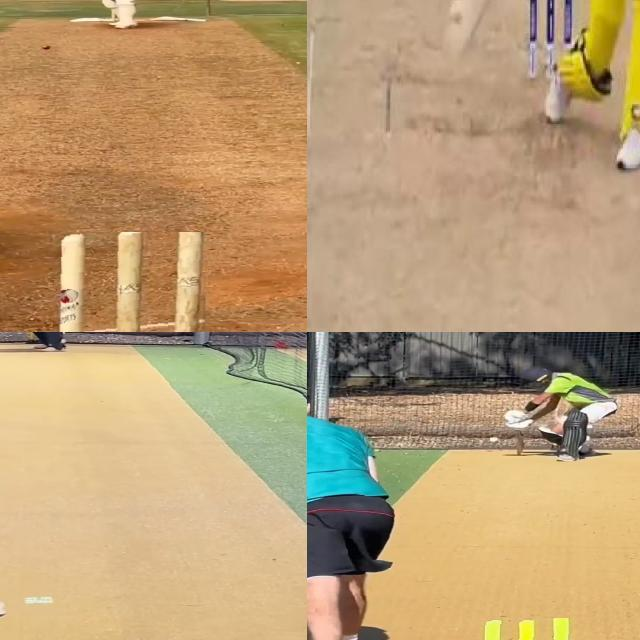Cricket ball: (54, 232, 210, 332), (449, 0, 465, 23), (487, 436, 501, 443), (41, 45, 50, 49)
